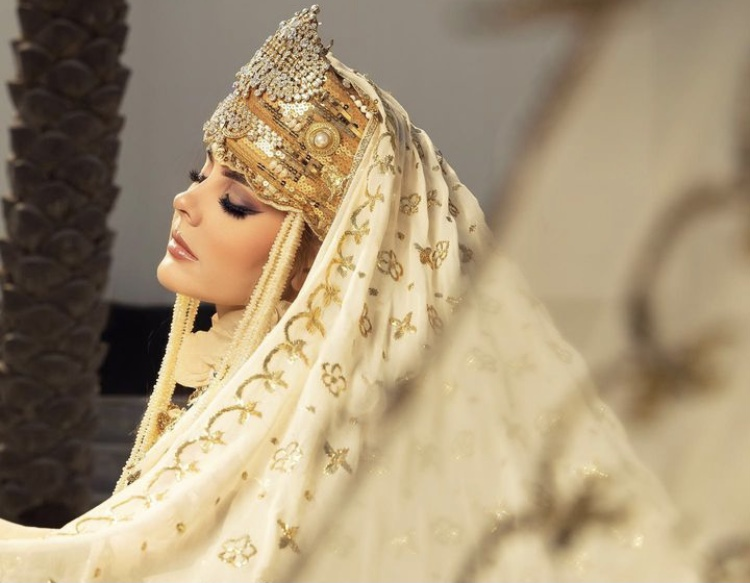Saudi_Founding_Day: (1, 2, 750, 583)
